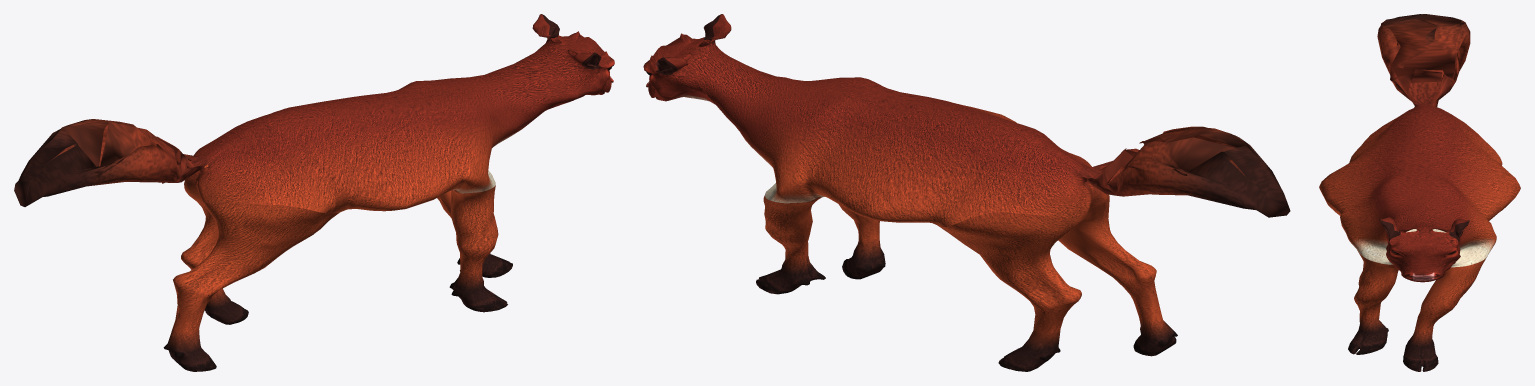
Rendered from squirrel.glb.
3 views of the same model, side by side, from view 1: azimuth 30°, elevation 25°; view 2: azimuth 150°, elevation 25°; view 3: azimuth 270°, elevation 25° (orthographic). The views are drawn at different scales.
Parts seen in each view (by area): view 1: IndianGiantFlyingSquirrel; view 2: IndianGiantFlyingSquirrel; view 3: IndianGiantFlyingSquirrel.
Boxes of the visible parts, <box> form: IndianGiantFlyingSquirrel: <box>14,14,614,371</box>; IndianGiantFlyingSquirrel: <box>643,14,1290,371</box>; IndianGiantFlyingSquirrel: <box>1319,14,1520,371</box>.
Size of the model in its own units: 5.74 by 2.17 by 2.08.
1 material, 1 textured.
